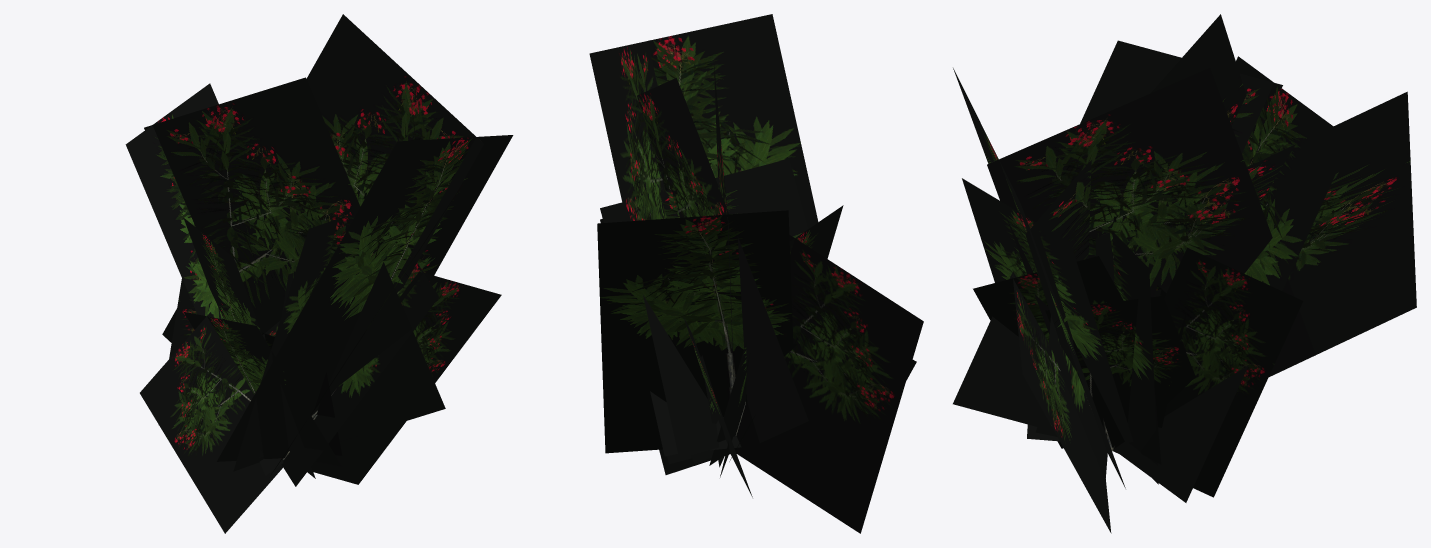
The model's file is oleander_summer_fall.glb.
The picture shows the model from 3 angles, left to right: view 1: azimuth 30°, elevation 25°; view 2: azimuth 150°, elevation 25°; view 3: azimuth 270°, elevation 25°; orthographic projection. The views are drawn at different scales.
Parts seen in each view (by area): view 1: Oleander02; view 2: Oleander02; view 3: Oleander02.
Boxes of the visible parts, box(x1,y1,x2,y2) form: Oleander02: box(125, 14, 513, 533); Oleander02: box(589, 14, 923, 533); Oleander02: box(953, 14, 1416, 533).
Bounding box in the file's own units: 87.69 × 94.41 × 81.57.
Materials: 1 (1 with a texture image).
